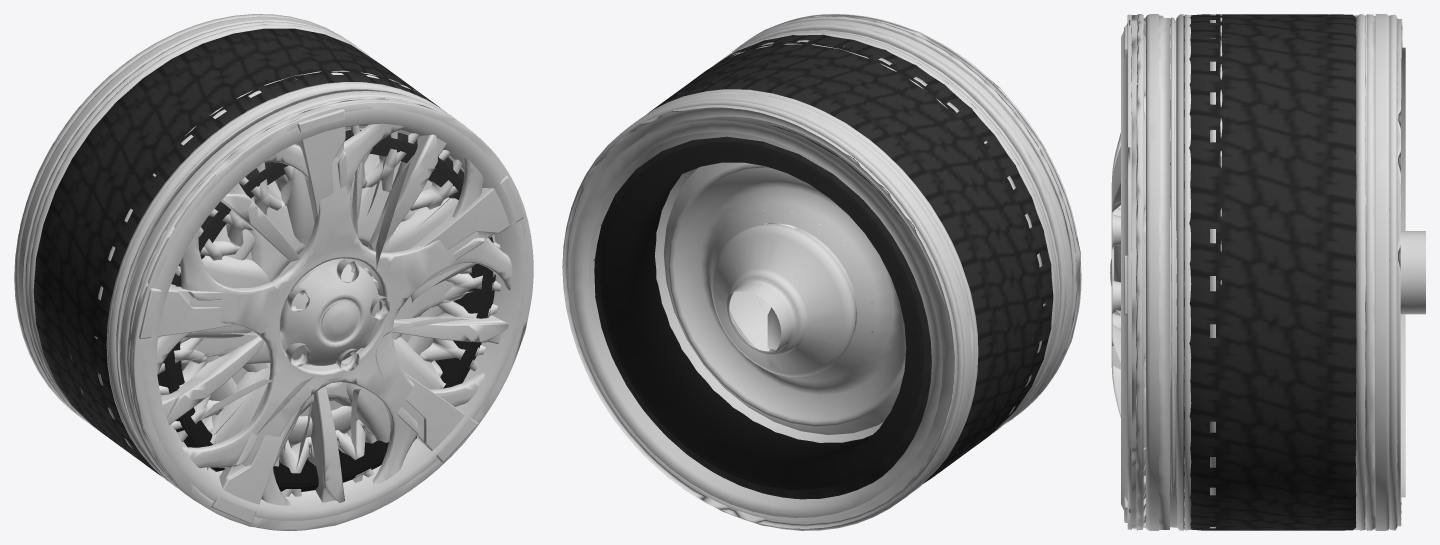
The model's file is wheel-kit.glb.
3 renders of one model, left to right at view 1: azimuth 30°, elevation 25°; view 2: azimuth 150°, elevation 25°; view 3: azimuth 270°, elevation 25°, orthographic. The views are drawn at different scales.
Visible parts, largest first — view 1: Tyre_0, Rim_7, Rim_6, Rim_3, Rim_18, Rim_0, Rim_5, Rim_17, Rim_1, Rim_9, Rim_11, Rim_19 (+4 smaller); view 2: Tyre_0, Rim_14, Rim_18, Rim_6, Rim_5, Rim_17, Rim_11, Rim_1, Rim_2, Rim_10, Tyre_1, Rim_12 (+3 smaller); view 3: Tyre_0, Rim_17, Rim_18, Rim_10, Rim_11, Rim_1, Rim_12, Rim_6, Rim_9, Rim_3, Rim_7, Rim_19 (+6 smaller).
Boxes of the visible parts, x1,y1,x2,y2 form: Tyre_0: [33, 28, 495, 491]; Rim_7: [119, 91, 533, 530]; Rim_6: [129, 98, 524, 527]; Rim_3: [142, 100, 526, 520]; Rim_18: [14, 14, 417, 480]; Rim_0: [184, 128, 495, 471]; Rim_5: [157, 125, 500, 496]; Rim_17: [18, 16, 465, 499]; Rim_1: [118, 89, 467, 438]; Rim_9: [24, 21, 446, 487]; Rim_11: [20, 43, 475, 504]; Rim_19: [70, 162, 470, 459]; Tyre_0: [593, 34, 1053, 499]; Rim_14: [663, 93, 957, 452]; Rim_18: [562, 32, 1056, 530]; Rim_6: [573, 15, 1080, 517]; Rim_5: [570, 117, 953, 530]; Rim_17: [623, 20, 1072, 502]; Rim_11: [563, 16, 1077, 528]; Rim_1: [738, 24, 1066, 407]; Rim_2: [729, 14, 1080, 415]; Rim_10: [639, 30, 1059, 492]; Tyre_1: [599, 141, 924, 489]; Rim_12: [642, 92, 974, 490]; Tyre_0: [1183, 14, 1356, 530]; Rim_17: [1146, 14, 1389, 530]; Rim_18: [1110, 14, 1425, 530]; Rim_10: [1170, 14, 1365, 530]; Rim_11: [1136, 14, 1402, 530]; Rim_1: [1157, 18, 1170, 529]; Rim_12: [1365, 14, 1375, 530]; Rim_6: [1124, 15, 1405, 529]; Rim_9: [1176, 14, 1375, 530]; Rim_3: [1121, 23, 1131, 509]; Rim_7: [1127, 14, 1163, 529]; Rim_19: [1111, 22, 1145, 523].
Bounding box in the file's own units: 2 × 2 × 1.22.
3 materials, 1 textured.
